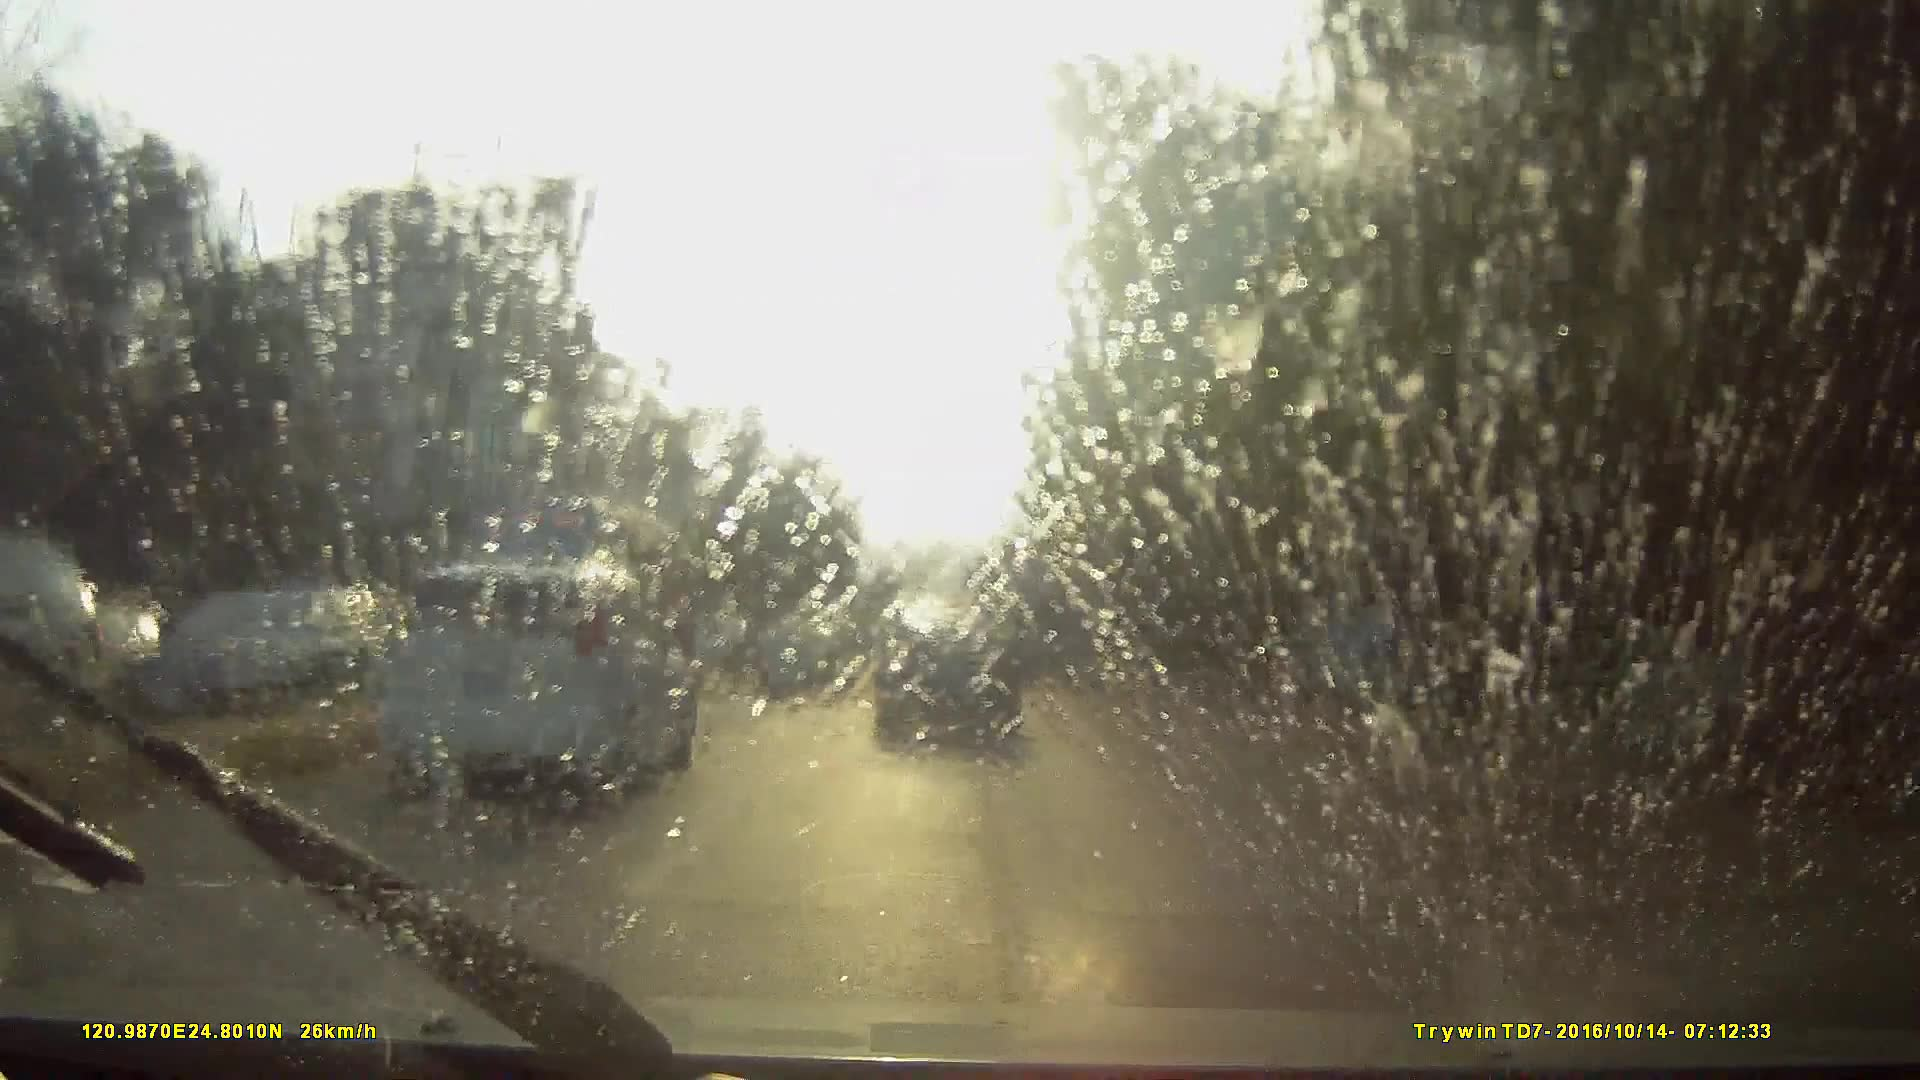vehicle: (251, 556, 684, 868), (388, 550, 700, 793), (421, 480, 715, 687), (874, 600, 1021, 754), (998, 559, 1102, 684), (738, 615, 847, 700), (866, 638, 915, 687)
